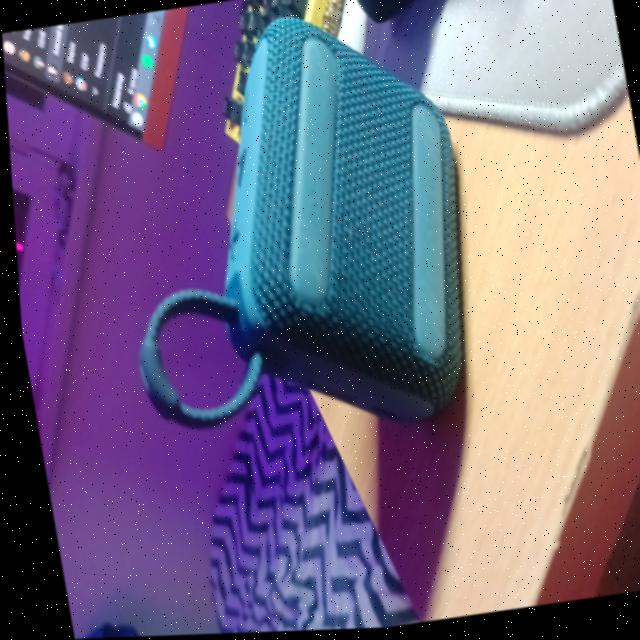column JBL: (75, 0, 501, 463)
